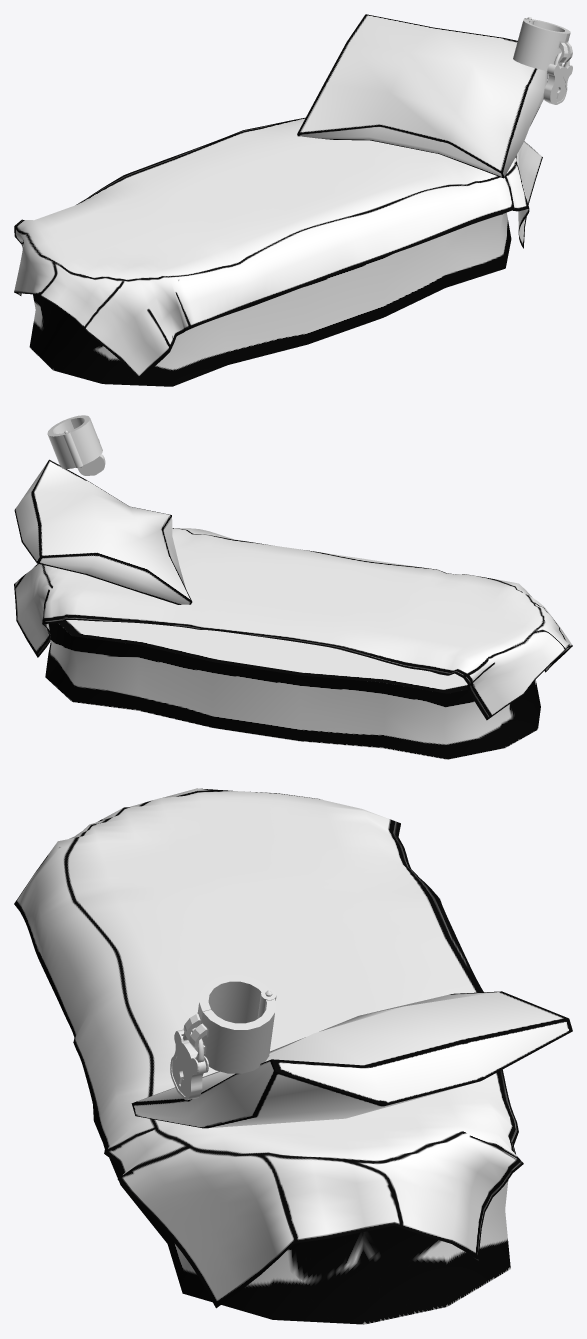
Rendered from BedForAwake.FBX.
3 views of the same model, one above another, from view 1: azimuth 30°, elevation 25°; view 2: azimuth 150°, elevation 25°; view 3: azimuth 270°, elevation 25° (orthographic). The views are drawn at different scales.
Parts seen in each view (by area): view 1: Plane001, Box001, Tube001, Line002; view 2: Plane001, Box001, Tube001, Tube002; view 3: Plane001, Box001, Tube002, Tube001, Line002.
Boxes of the visible parts, <box> form: Plane001: <box>14,117,542,386</box>; Box001: <box>297,14,547,178</box>; Tube001: <box>513,19,568,70</box>; Line002: <box>543,63,572,104</box>; Plane001: <box>14,528,572,759</box>; Box001: <box>14,459,192,604</box>; Tube001: <box>70,415,102,465</box>; Tube002: <box>47,418,75,468</box>; Plane001: <box>14,788,523,1324</box>; Box001: <box>131,991,572,1128</box>; Tube002: <box>189,999,276,1073</box>; Tube001: <box>183,975,268,1040</box>; Line002: <box>170,1029,208,1100</box>.
Bounding box in the file's own units: 1609 × 629 × 913.
